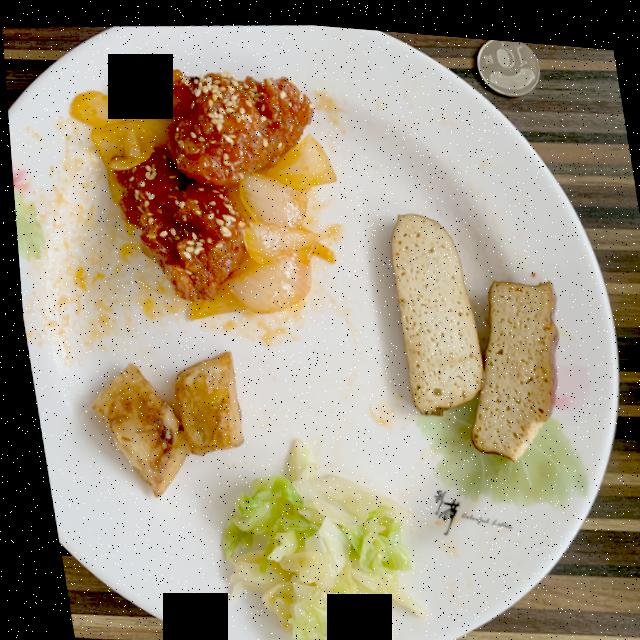cabbage: (213, 435, 417, 640)
coin: (475, 31, 537, 87)
firm tofu: (386, 207, 554, 452)
fried potato: (85, 347, 236, 495)
